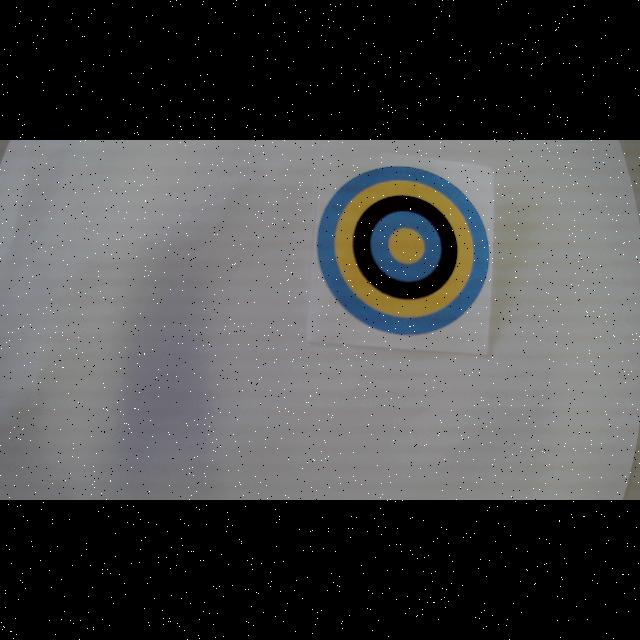COGNITIVE: (318, 166, 490, 336)
